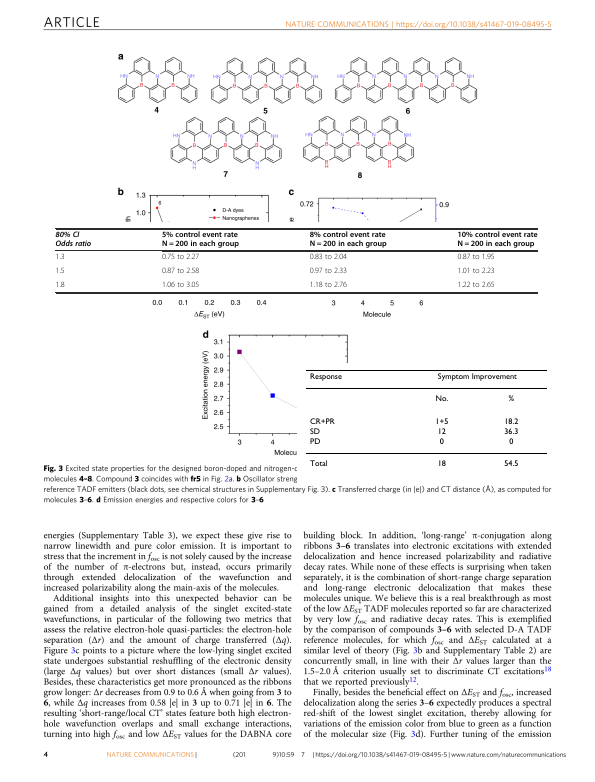borderless: (54, 227, 537, 292), (304, 368, 548, 477)
cell: (457, 231, 538, 249), (161, 231, 240, 249), (309, 231, 388, 249), (436, 373, 517, 382), (55, 231, 92, 248), (308, 373, 342, 382), (161, 254, 200, 261), (309, 254, 348, 261), (457, 254, 496, 261), (161, 268, 200, 275), (309, 268, 348, 275), (457, 268, 496, 275), (161, 282, 200, 289), (309, 282, 348, 289), (457, 282, 496, 289), (308, 417, 335, 427), (308, 460, 328, 469), (503, 417, 519, 427), (503, 427, 519, 437), (434, 417, 449, 427), (503, 460, 519, 469), (434, 395, 449, 404), (308, 427, 320, 437), (308, 438, 321, 447), (436, 427, 446, 437), (436, 460, 446, 469), (507, 395, 515, 404), (55, 254, 65, 261), (55, 268, 65, 275), (55, 282, 65, 289), (438, 438, 444, 447), (508, 438, 514, 447)
